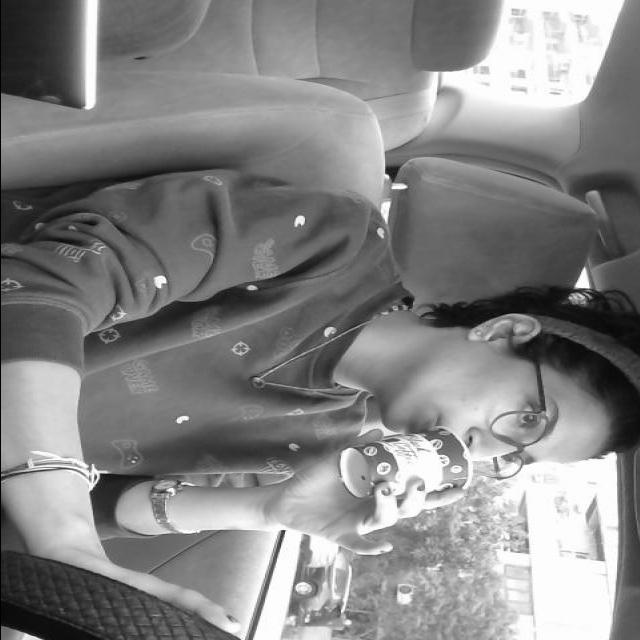drinking: (330, 430, 472, 510)
